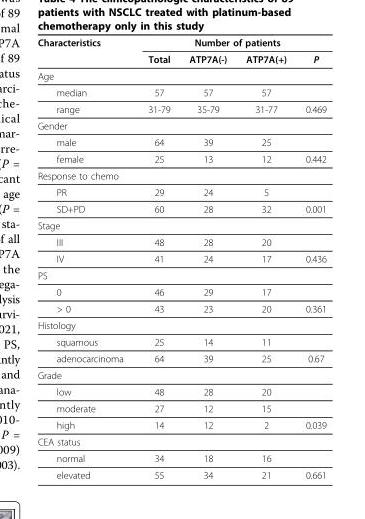table: (36, 36, 325, 480)
table column: (36, 36, 135, 480), (235, 36, 295, 480), (179, 36, 235, 480), (135, 36, 179, 480), (295, 36, 325, 480)
table column header: (36, 36, 325, 67)
table projected row header: (36, 166, 325, 183), (36, 216, 325, 233), (36, 266, 325, 283), (36, 316, 325, 333), (36, 366, 325, 383), (36, 67, 325, 83), (36, 117, 325, 133), (36, 433, 325, 449)
table row: (36, 50, 325, 67), (36, 83, 325, 100), (36, 100, 325, 117), (36, 133, 325, 150), (36, 166, 325, 183), (36, 183, 325, 200), (36, 216, 325, 233), (36, 233, 325, 250), (36, 266, 325, 283), (36, 283, 325, 300), (36, 316, 325, 333), (36, 349, 325, 366), (36, 366, 325, 383), (36, 399, 325, 416), (36, 416, 325, 433), (36, 449, 325, 466), (36, 67, 325, 83), (36, 117, 325, 133), (36, 150, 325, 166), (36, 200, 325, 216), (36, 250, 325, 266), (36, 300, 325, 316), (36, 333, 325, 349), (36, 383, 325, 399), (36, 433, 325, 449), (36, 36, 325, 50), (36, 466, 325, 480)
table spanning cell: (36, 36, 135, 67), (135, 36, 325, 50)
